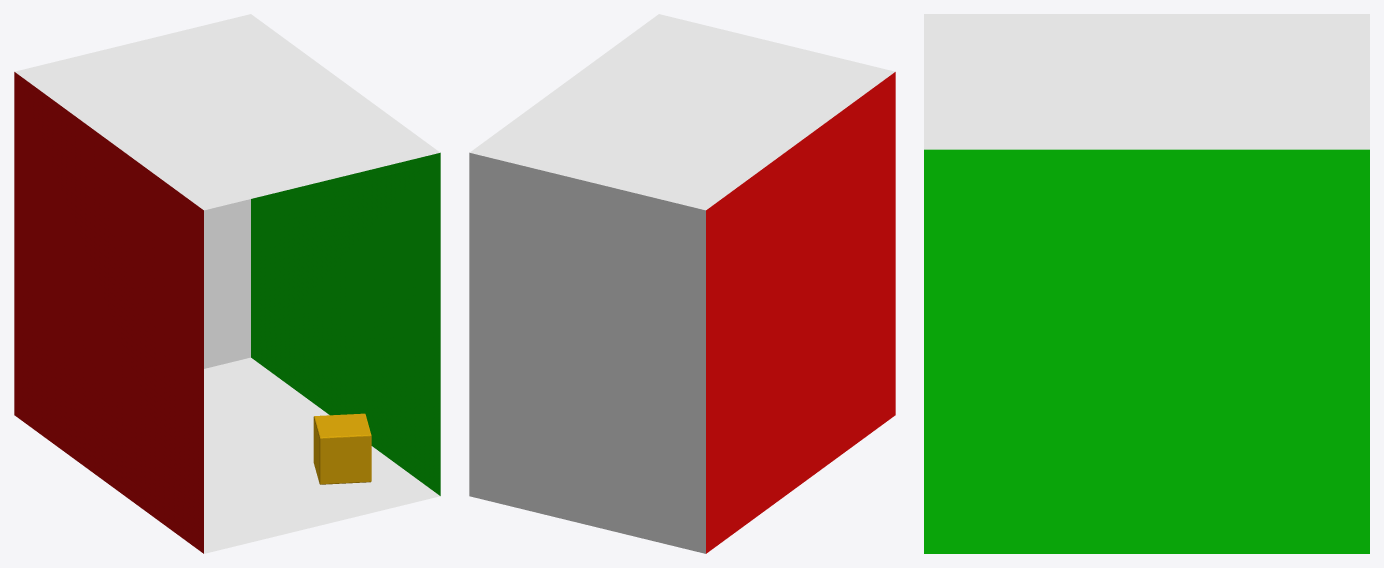
The model's file is example4.glb.
3 renders of one model, left to right at view 1: azimuth 30°, elevation 25°; view 2: azimuth 150°, elevation 25°; view 3: azimuth 270°, elevation 25°, orthographic. The views are drawn at different scales.
Visible parts, largest first — view 1: Cube.004, Cube.005; view 2: Cube.004; view 3: Cube.004.
Part boxes in pixels (x1,y1,x2,y2): Cube.004: (14, 14, 440, 553); Cube.005: (313, 413, 371, 484); Cube.004: (469, 14, 895, 553); Cube.004: (924, 14, 1369, 553).
Size of the model in its own units: 4.58 by 6.36 by 6.36.
